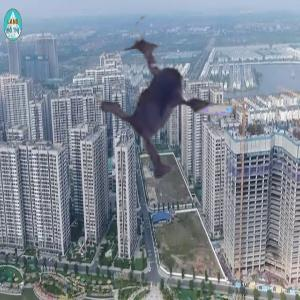drone: (77, 3, 299, 225)
